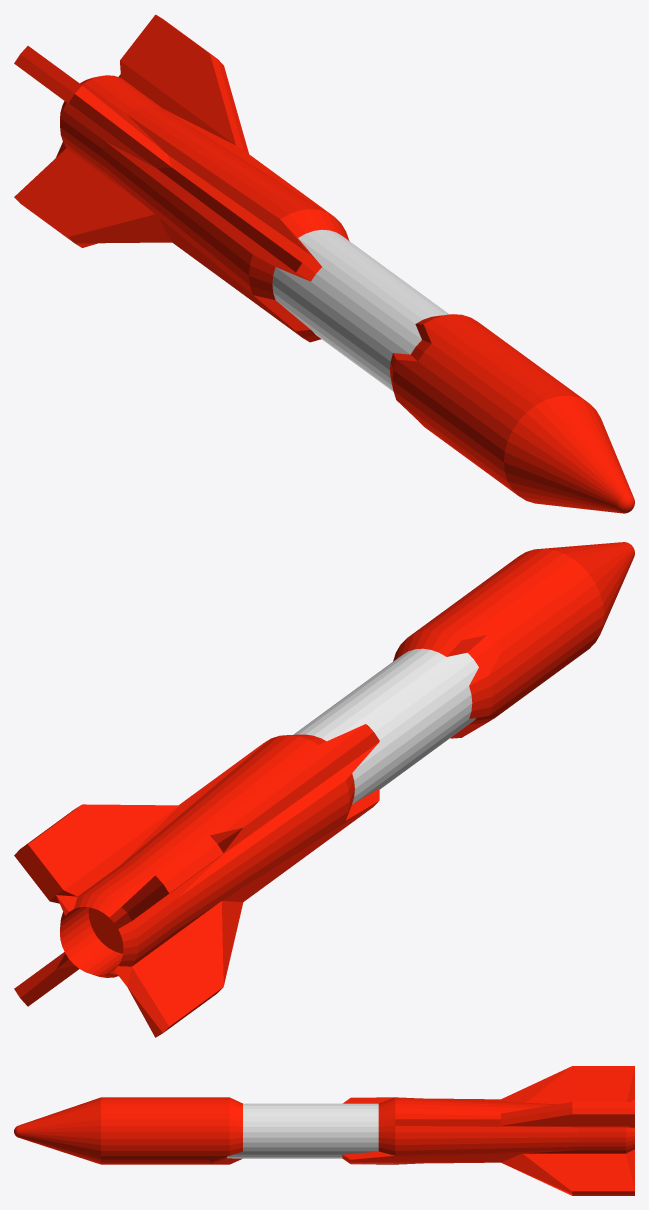
Rendered from playerRocket.fbx.
The picture shows the model from 3 angles, top to bottom: view 1: azimuth 30°, elevation 25°; view 2: azimuth 150°, elevation 25°; view 3: azimuth 270°, elevation 25°; orthographic projection. The views are drawn at different scales.
Parts seen in each view (by area): view 1: Cylinder; view 2: Cylinder; view 3: Cylinder.
Part boxes in pixels (left/top/right/bottom): Cylinder: left=14, top=14, right=634, bottom=513; Cylinder: left=14, top=542, right=634, bottom=1037; Cylinder: left=14, top=1066, right=634, bottom=1195.
Size of the model in its own units: 308 by 308 by 1844.
